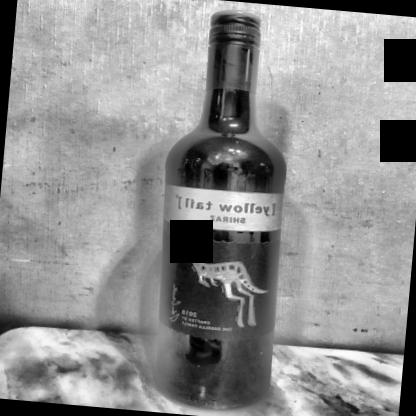yellowtail: (150, 184, 284, 352)
